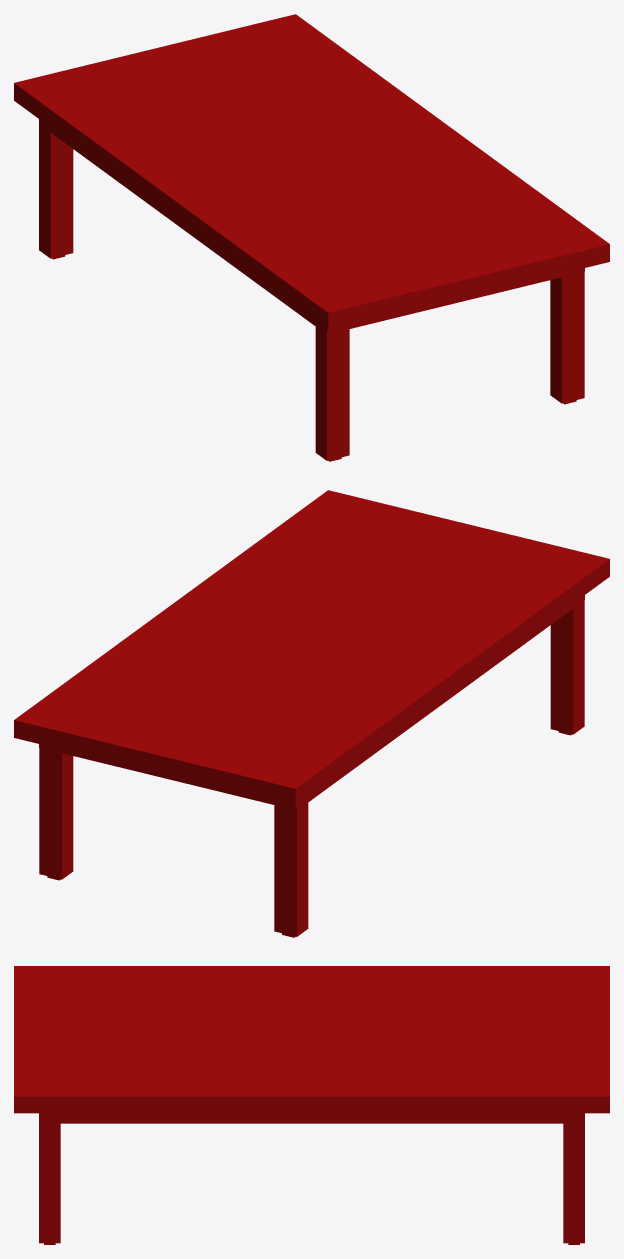
The model's file is table.fbx.
3 views of the same model, one above another, from view 1: azimuth 30°, elevation 25°; view 2: azimuth 150°, elevation 25°; view 3: azimuth 270°, elevation 25° (orthographic). The views are drawn at different scales.
Parts seen in each view (by area): view 1: Cube.008; view 2: Cube.008; view 3: Cube.008.
Boxes of the visible parts, left/top/right/bottom form: Cube.008: left=14, top=14, right=609, bottom=461; Cube.008: left=14, top=490, right=609, bottom=937; Cube.008: left=14, top=966, right=609, bottom=1244.
Size of the model in its own units: 1159 by 648 by 2238.
